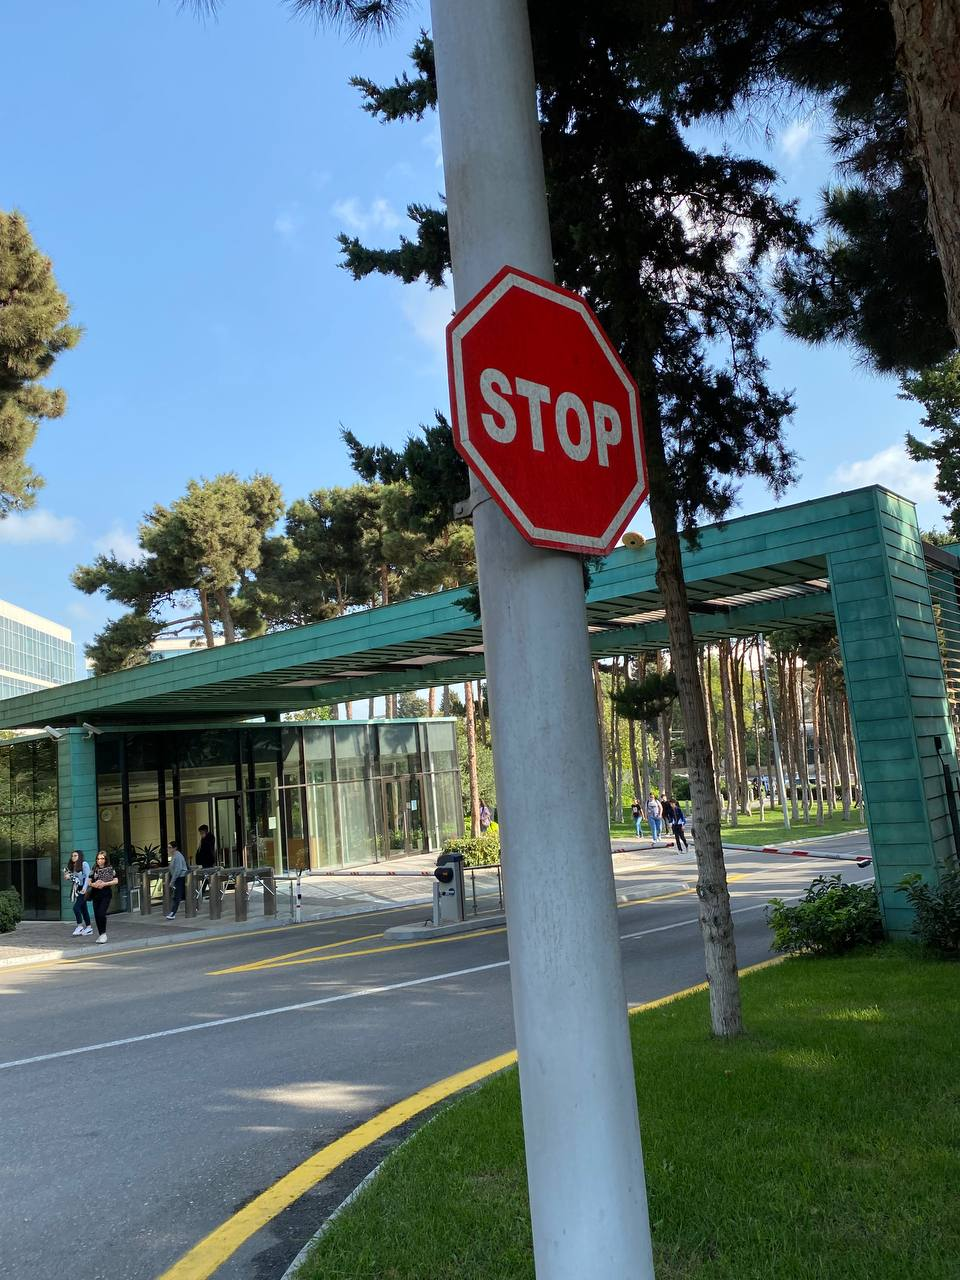STOP: (445, 266, 651, 555)
